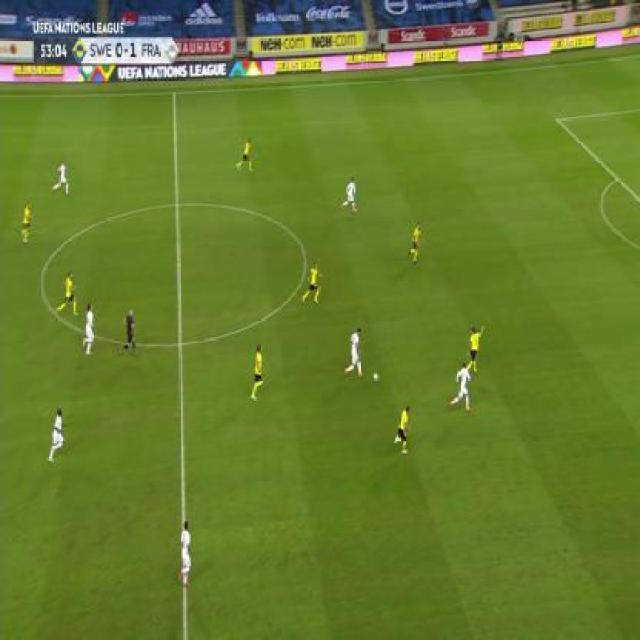ball: (372, 370, 380, 383)
player: (45, 406, 67, 465), (450, 359, 473, 413), (344, 325, 366, 381), (177, 519, 194, 588), (466, 322, 486, 375), (393, 402, 413, 455), (57, 270, 80, 316), (301, 260, 323, 306), (249, 343, 266, 402), (119, 308, 139, 356), (406, 219, 425, 264), (81, 303, 97, 356), (51, 157, 71, 196), (340, 175, 359, 214), (235, 135, 254, 172), (19, 200, 33, 245)
